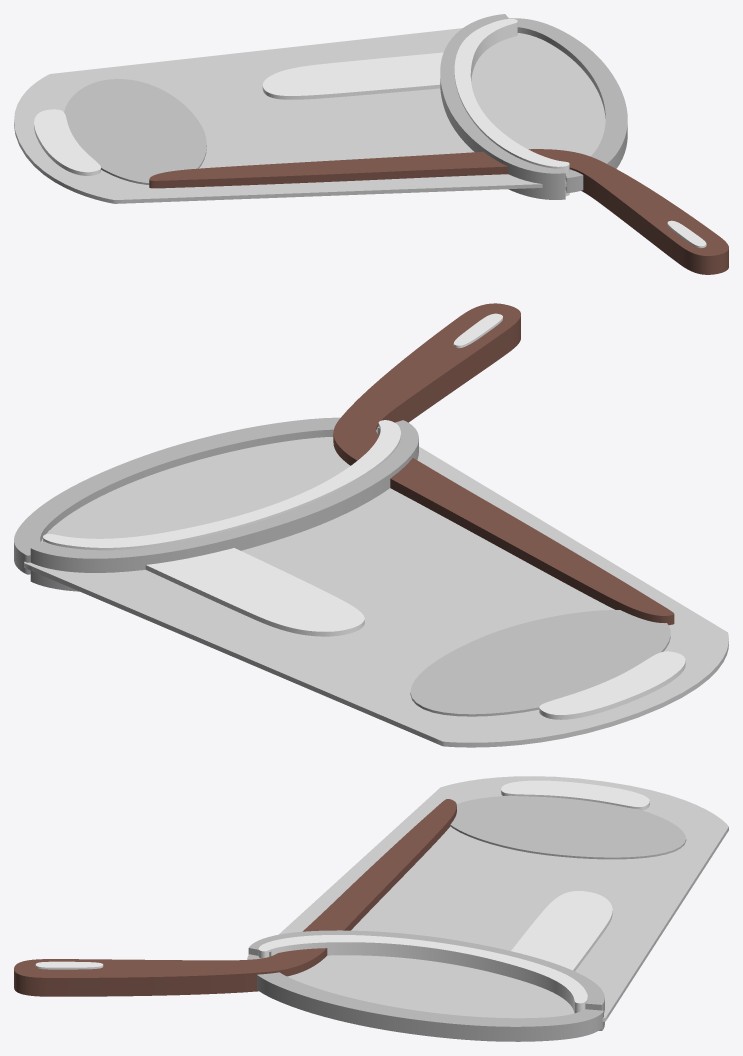
Rendered from emoji_u1fad7.glb.
3 renders of one model, top to bottom at view 1: azimuth 30°, elevation 25°; view 2: azimuth 150°, elevation 25°; view 3: azimuth 270°, elevation 25°, orthographic. The views are drawn at different scales.
Parts seen in each view (by area): view 1: emoji_u1fad7; view 2: emoji_u1fad7; view 3: emoji_u1fad7.
Boxes of the visible parts, box(x1,y1,x2,y2) form: emoji_u1fad7: box(14, 14, 728, 274); emoji_u1fad7: box(14, 303, 728, 747); emoji_u1fad7: box(14, 776, 728, 1041).
Size of the model in its own units: 0.0293 by 0.0016 by 0.0346.
